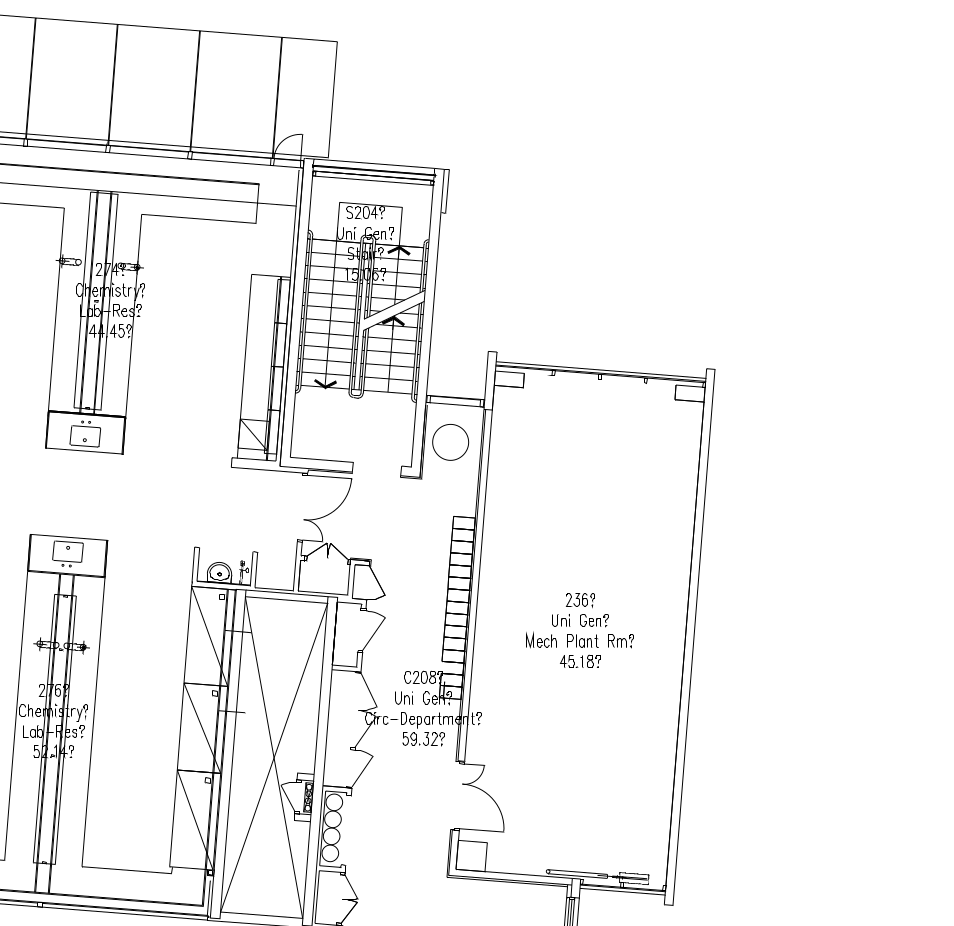door: (297, 472, 355, 543), (455, 761, 513, 832)
